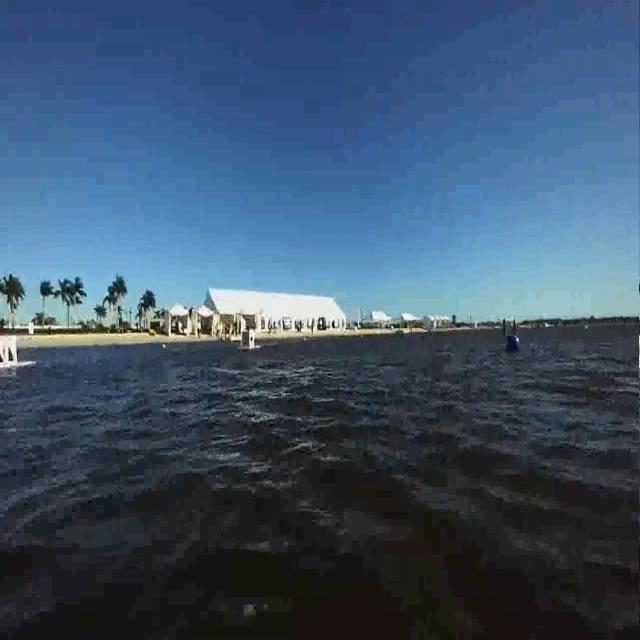blue-buoy: (505, 333, 522, 354)
